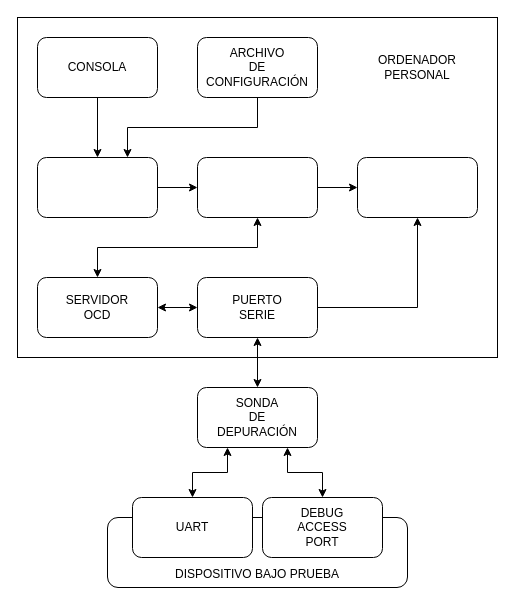
Image size: 515x607. Some labels were removed from this diagram. Each missing label, with the centre of its shape:
"CONTROLADOR DE ENSAYOS" goes at [257,187].
"GENERADOR DE REPORTES" goes at [417,187].
"PLANIFICADOR DE ENSAYOS" goes at [97,187].
